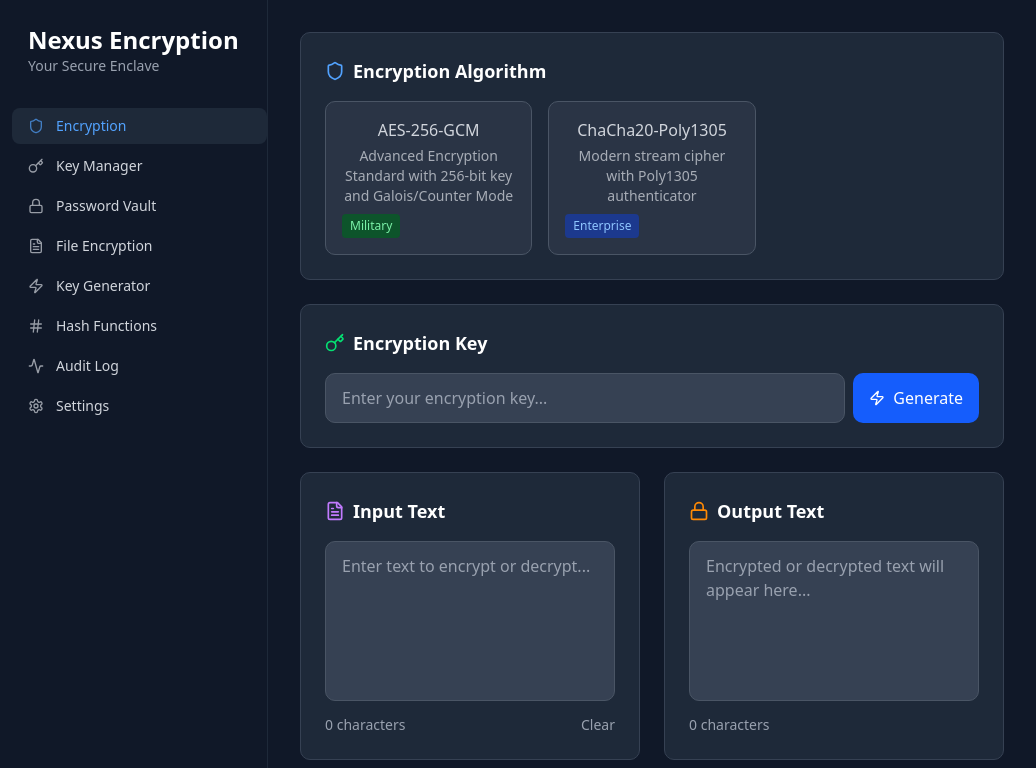
NexusCipher › exports and imports data correctly
This screenshot has width=1036, height=768.
Switch to Settings tab
Step 1. Click the button "Settings" → (140, 406), box [12, 388, 267, 424]
(page scrolled)
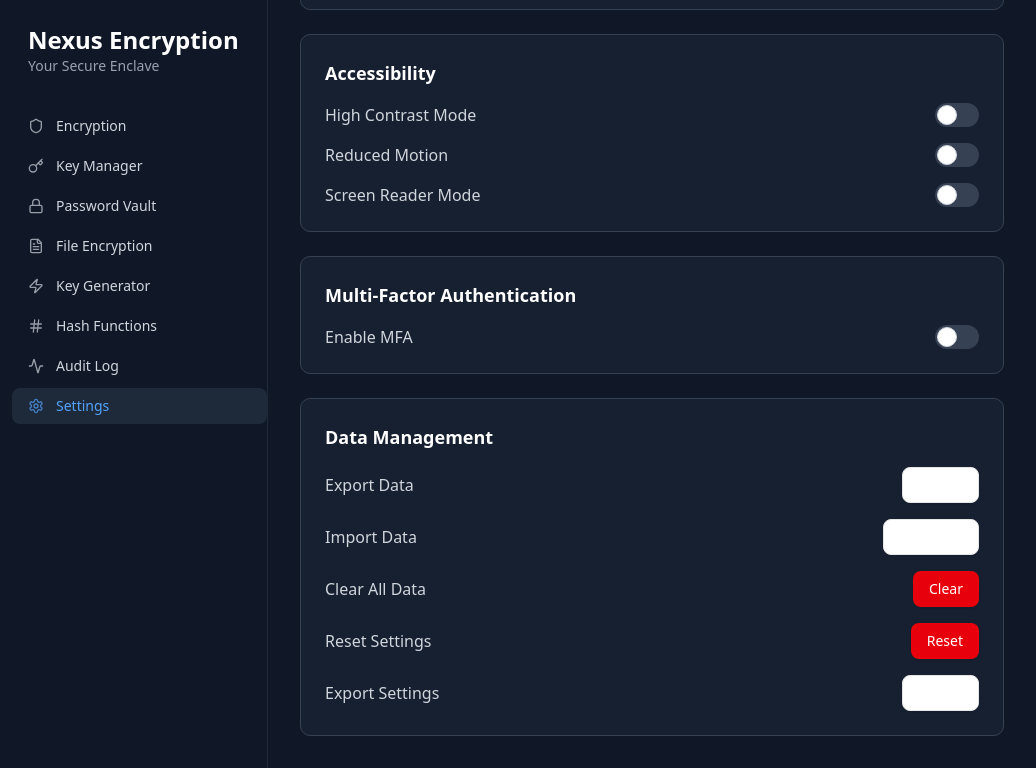
Check: the heading "Data Management" is shown, box [325, 425, 493, 449]
